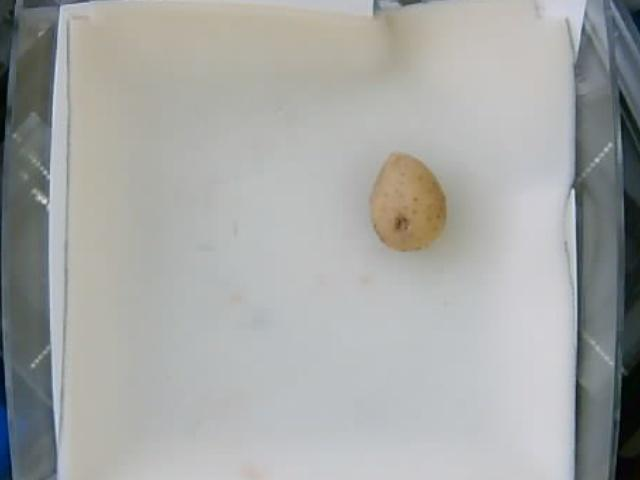Potato: (372, 151, 445, 251)
